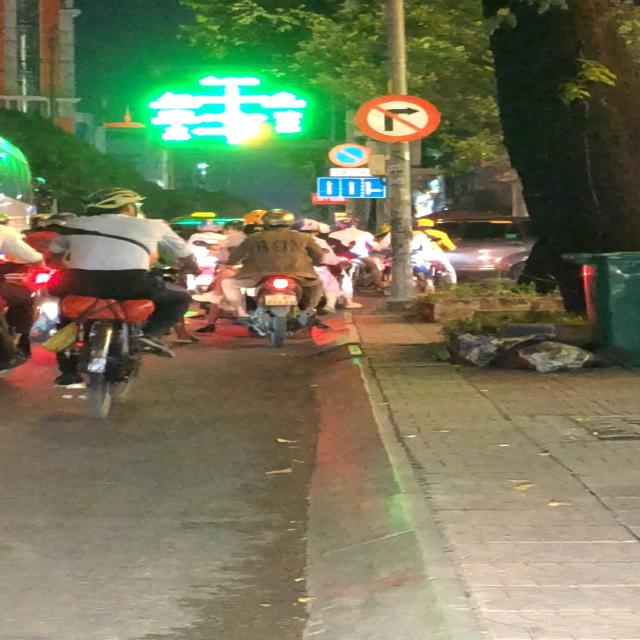Bien bao cam re phai: (353, 92, 446, 145)
